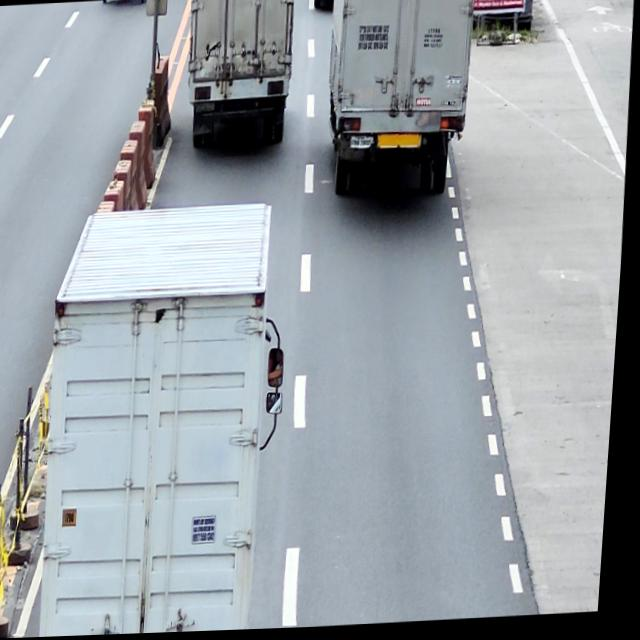License-Plate: (352, 137, 374, 152), (197, 103, 216, 115)
Truck: (38, 202, 303, 638), (321, 0, 479, 199), (183, 0, 299, 151)
